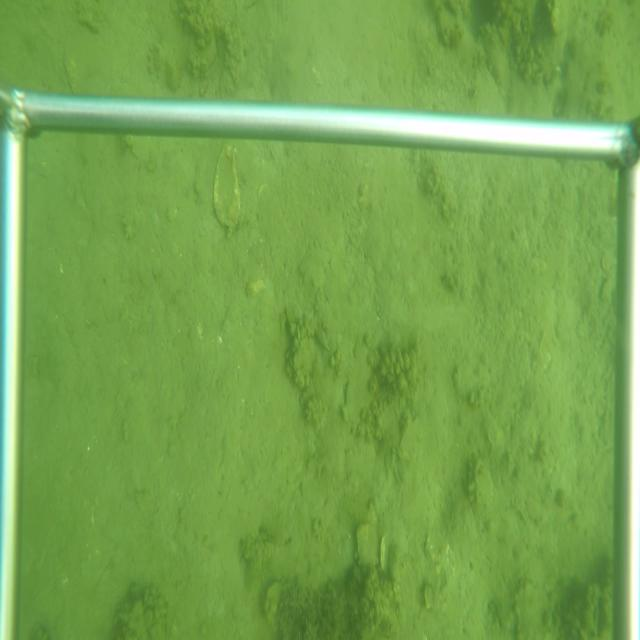Oyster-Indeterminate: (212, 142, 242, 229)
